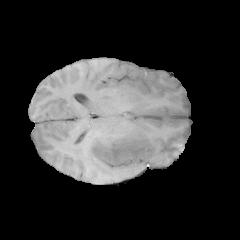glioma: (71, 132, 151, 167)
